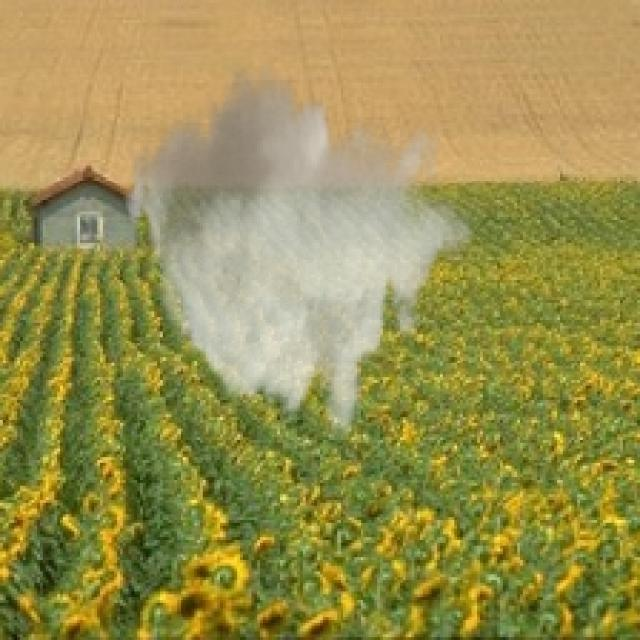smoke: (120, 57, 474, 446)
